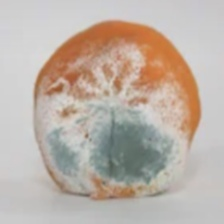orange: (47, 31, 200, 218)
